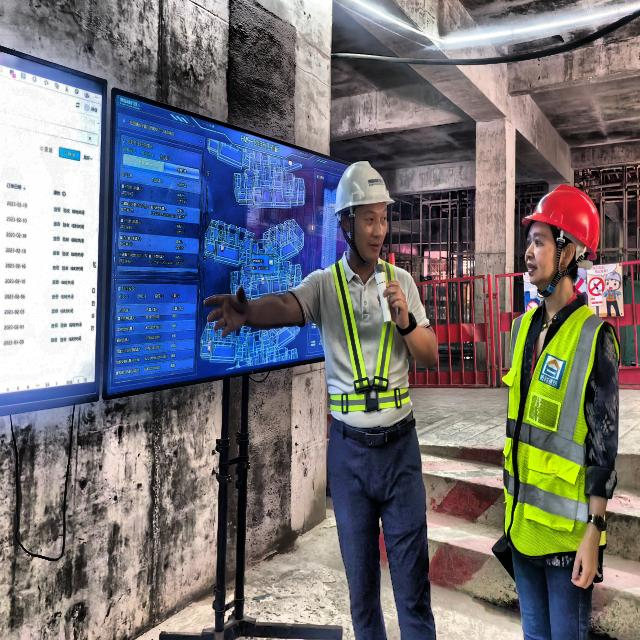safety_helmet: (520, 182, 603, 298), (332, 158, 398, 219)
safety_jacket: (498, 292, 608, 568), (309, 260, 426, 420)
